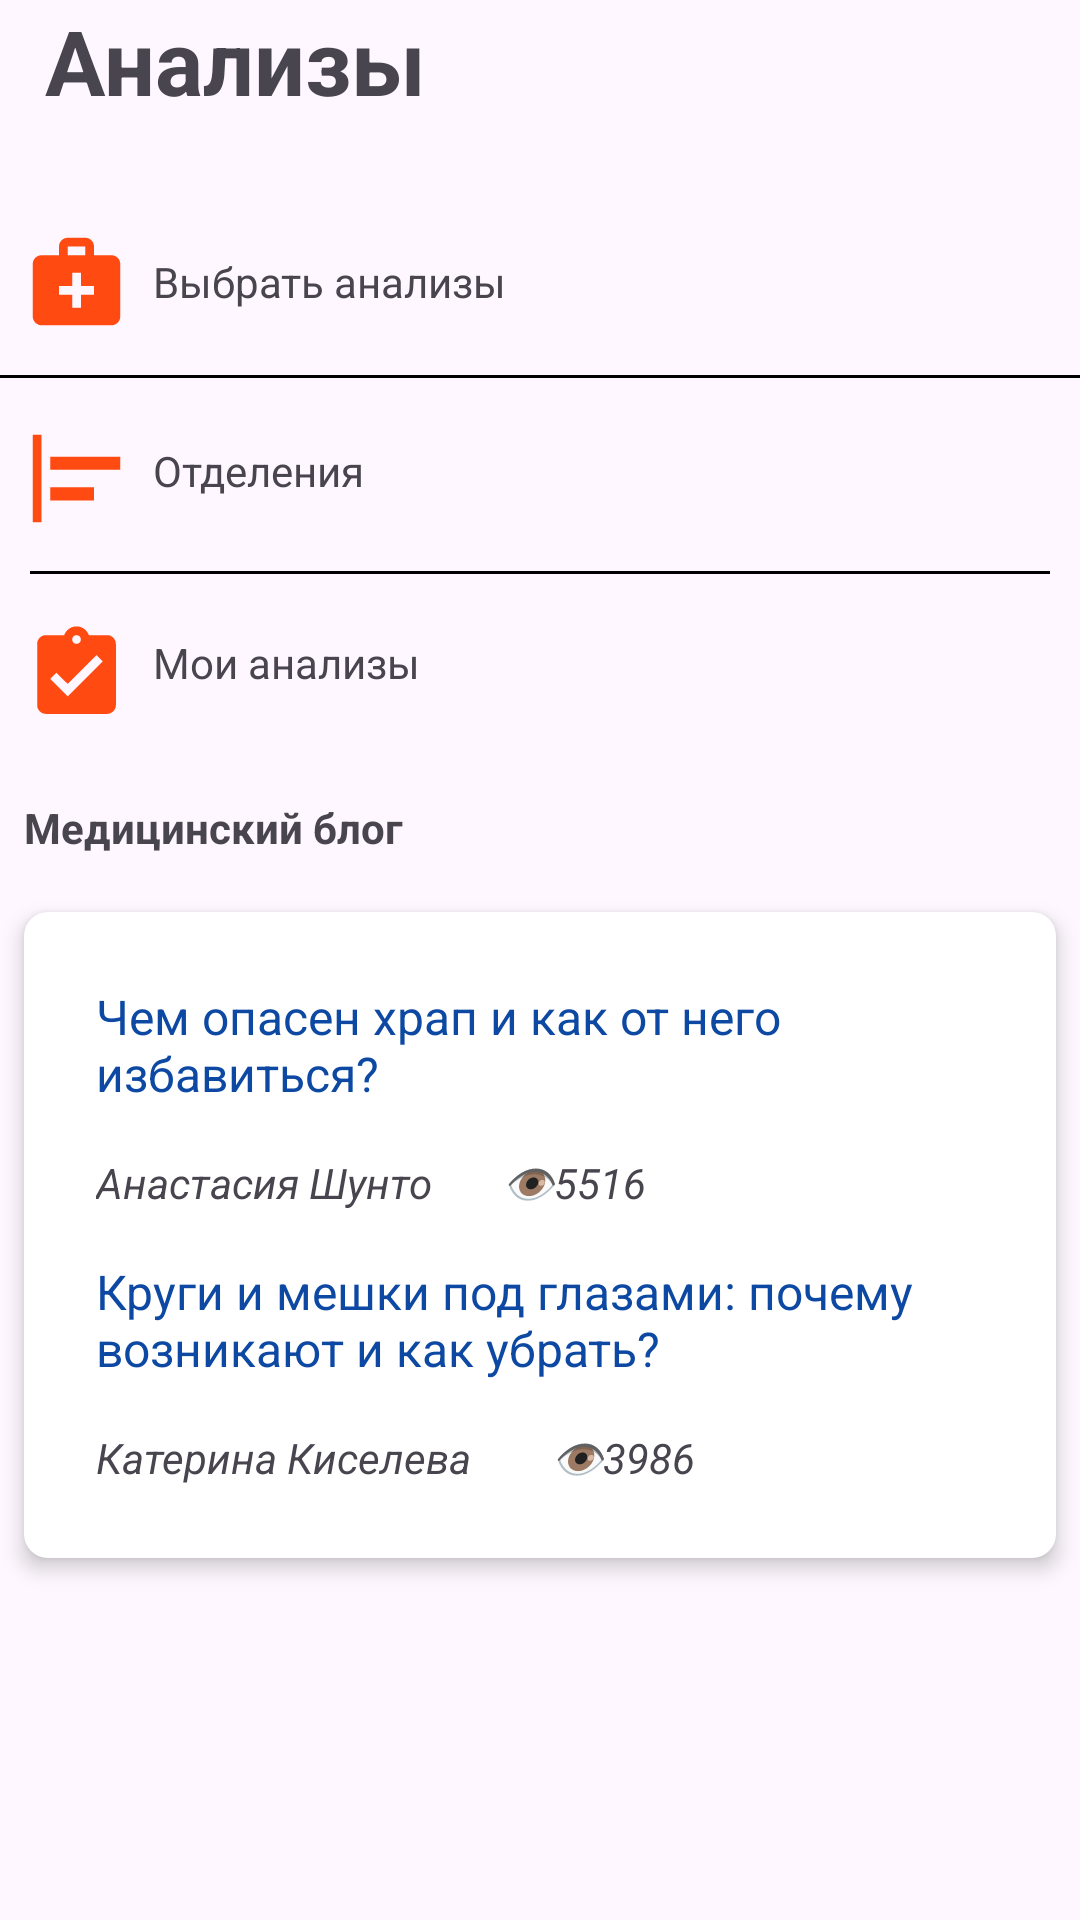

Named icons in this screenshot (1080 x 1920) and their bounding boxes, bbox=[x1, y1, x2, y2]:
analysis: bbox=[37, 626, 116, 714]
medical services: bbox=[32, 237, 121, 326]
